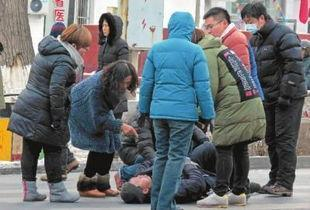Fall-Detected: (108, 139, 231, 203)
